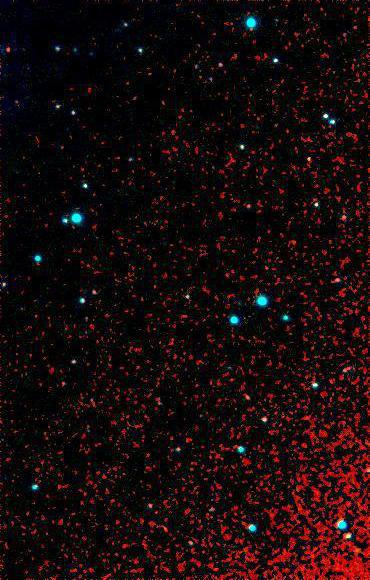star: (0, 39, 21, 69)
